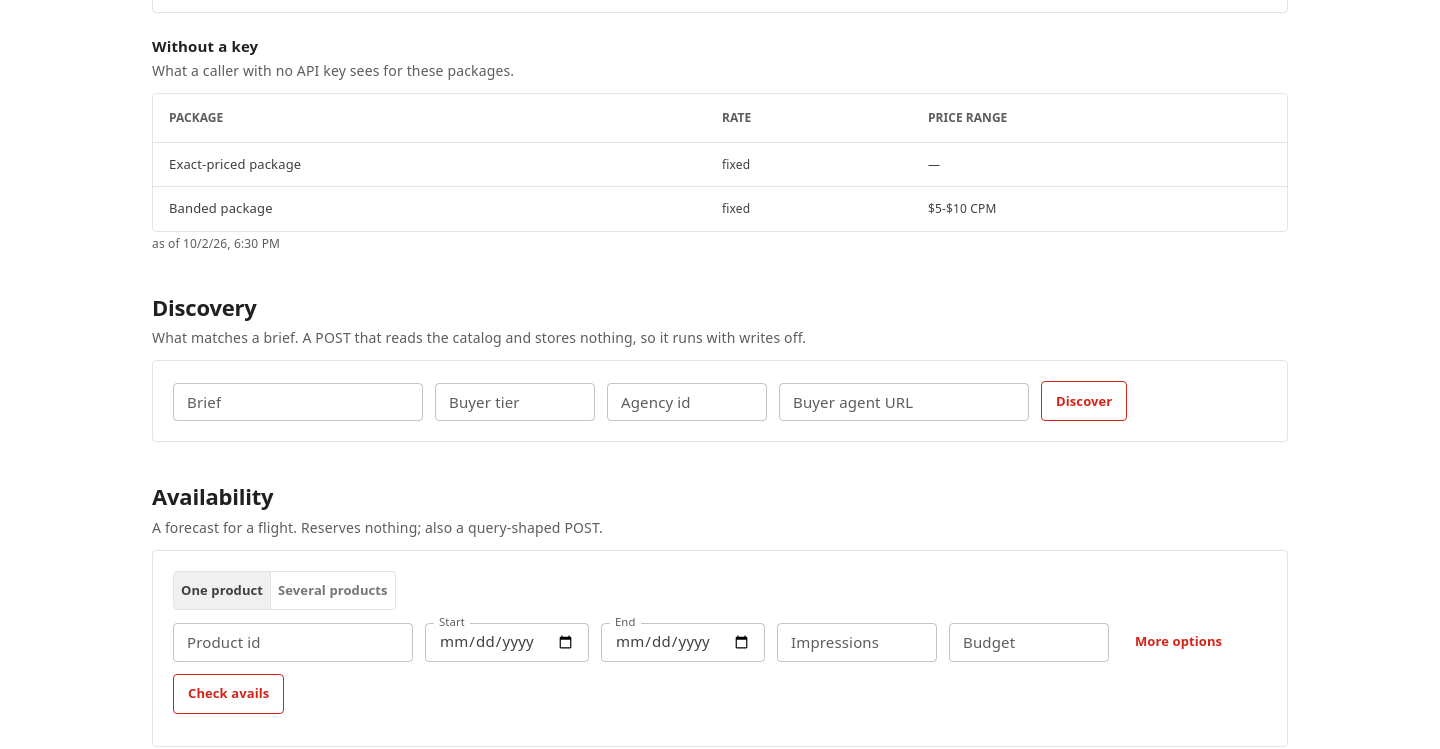
Test: the catalog screen › discovers against the submitted brief
(page scrolled)
Step 1. Type "homepage" into the field labelled "Brief" → point(298, 402), box [173,383,423,421]
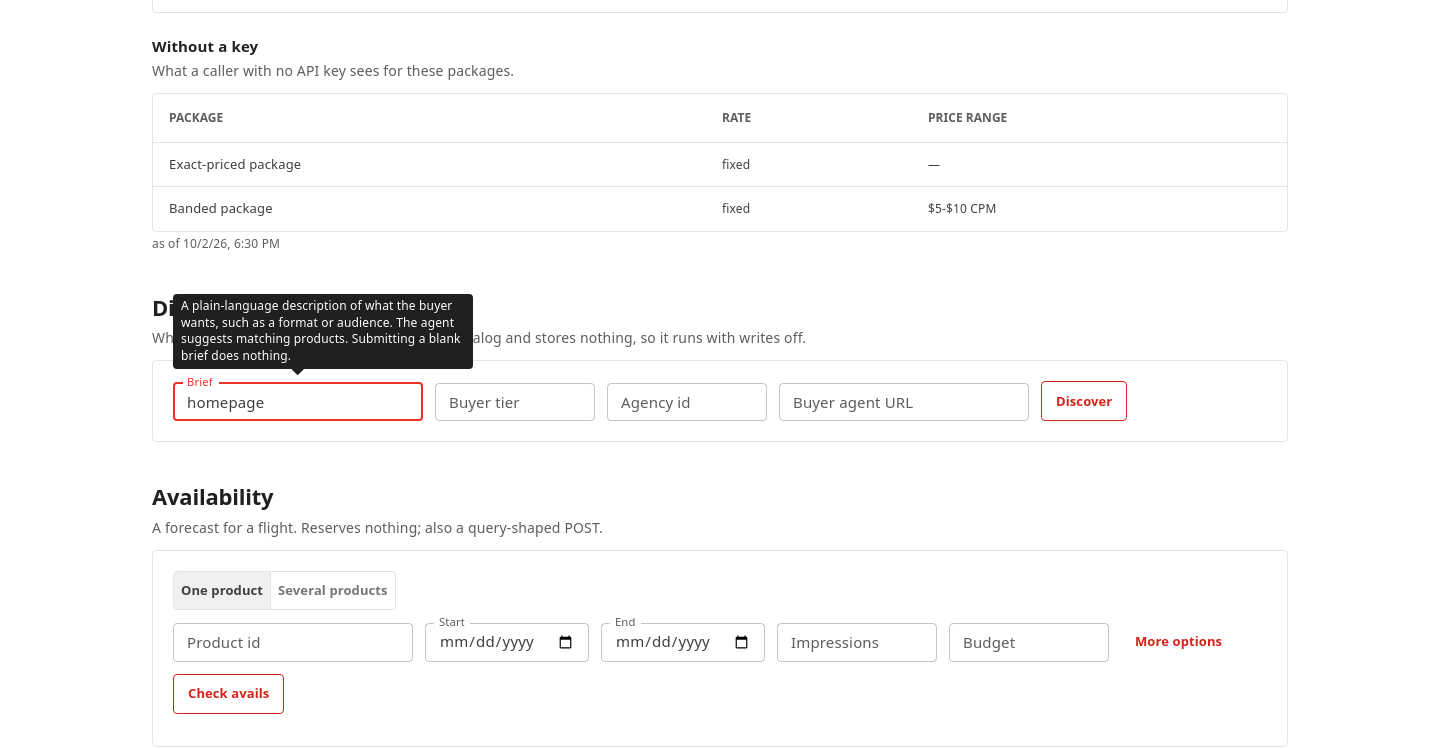
Step 2. Click the button "Discover" → point(1084, 401), box [1041,381,1127,421]
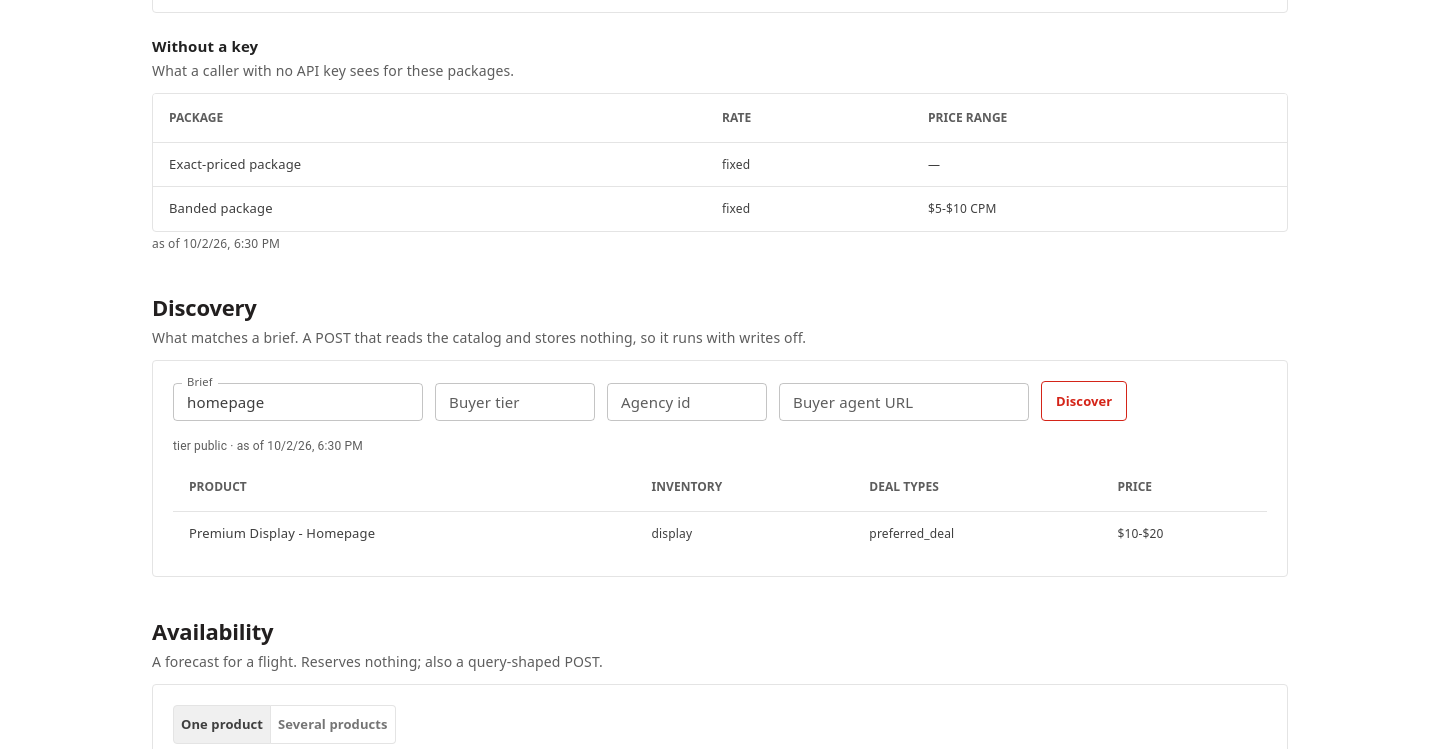
Expected: the row "Premium Display - Homepage display preferred_deal $10-$20" is shown, [173,512,1267,556]
